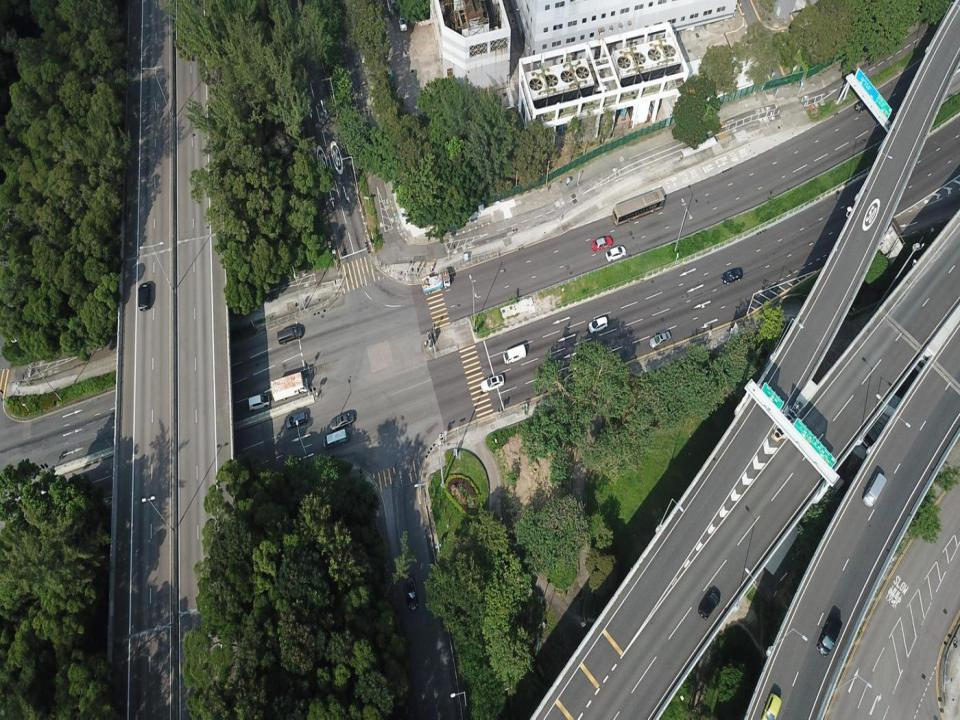bus: (612, 188, 665, 227)
car: (816, 614, 842, 657), (698, 588, 721, 620), (760, 693, 782, 719), (329, 410, 355, 432), (284, 411, 308, 430), (405, 576, 418, 610), (481, 374, 504, 393), (649, 330, 671, 349), (721, 267, 743, 285), (605, 244, 627, 262), (248, 393, 270, 411), (588, 315, 608, 334), (590, 236, 613, 252), (398, 11, 408, 32)
truck: (270, 371, 309, 402), (420, 269, 450, 294)
van: (862, 471, 888, 508), (322, 429, 349, 450), (277, 324, 304, 344), (502, 344, 526, 364), (137, 282, 152, 311)
